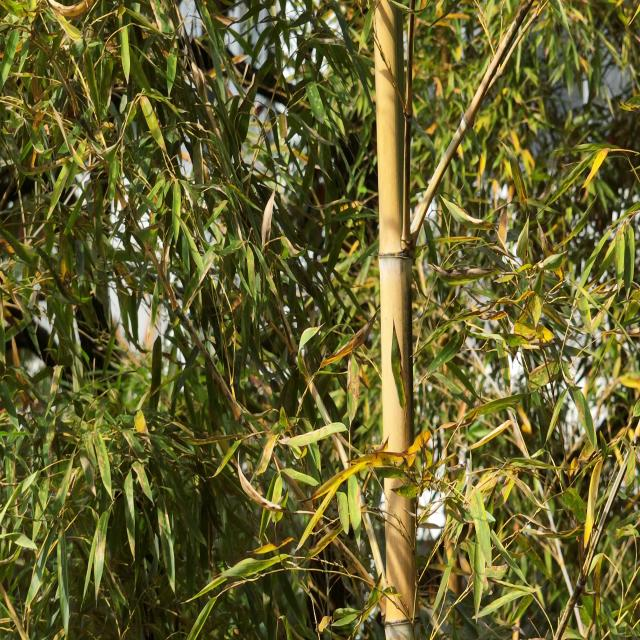Bamboo-shoots: (374, 0, 419, 640)
